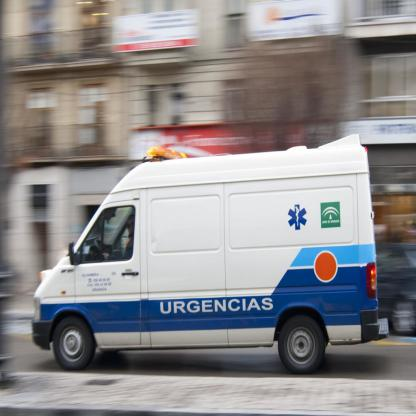Ambulance: (31, 134, 389, 376)
